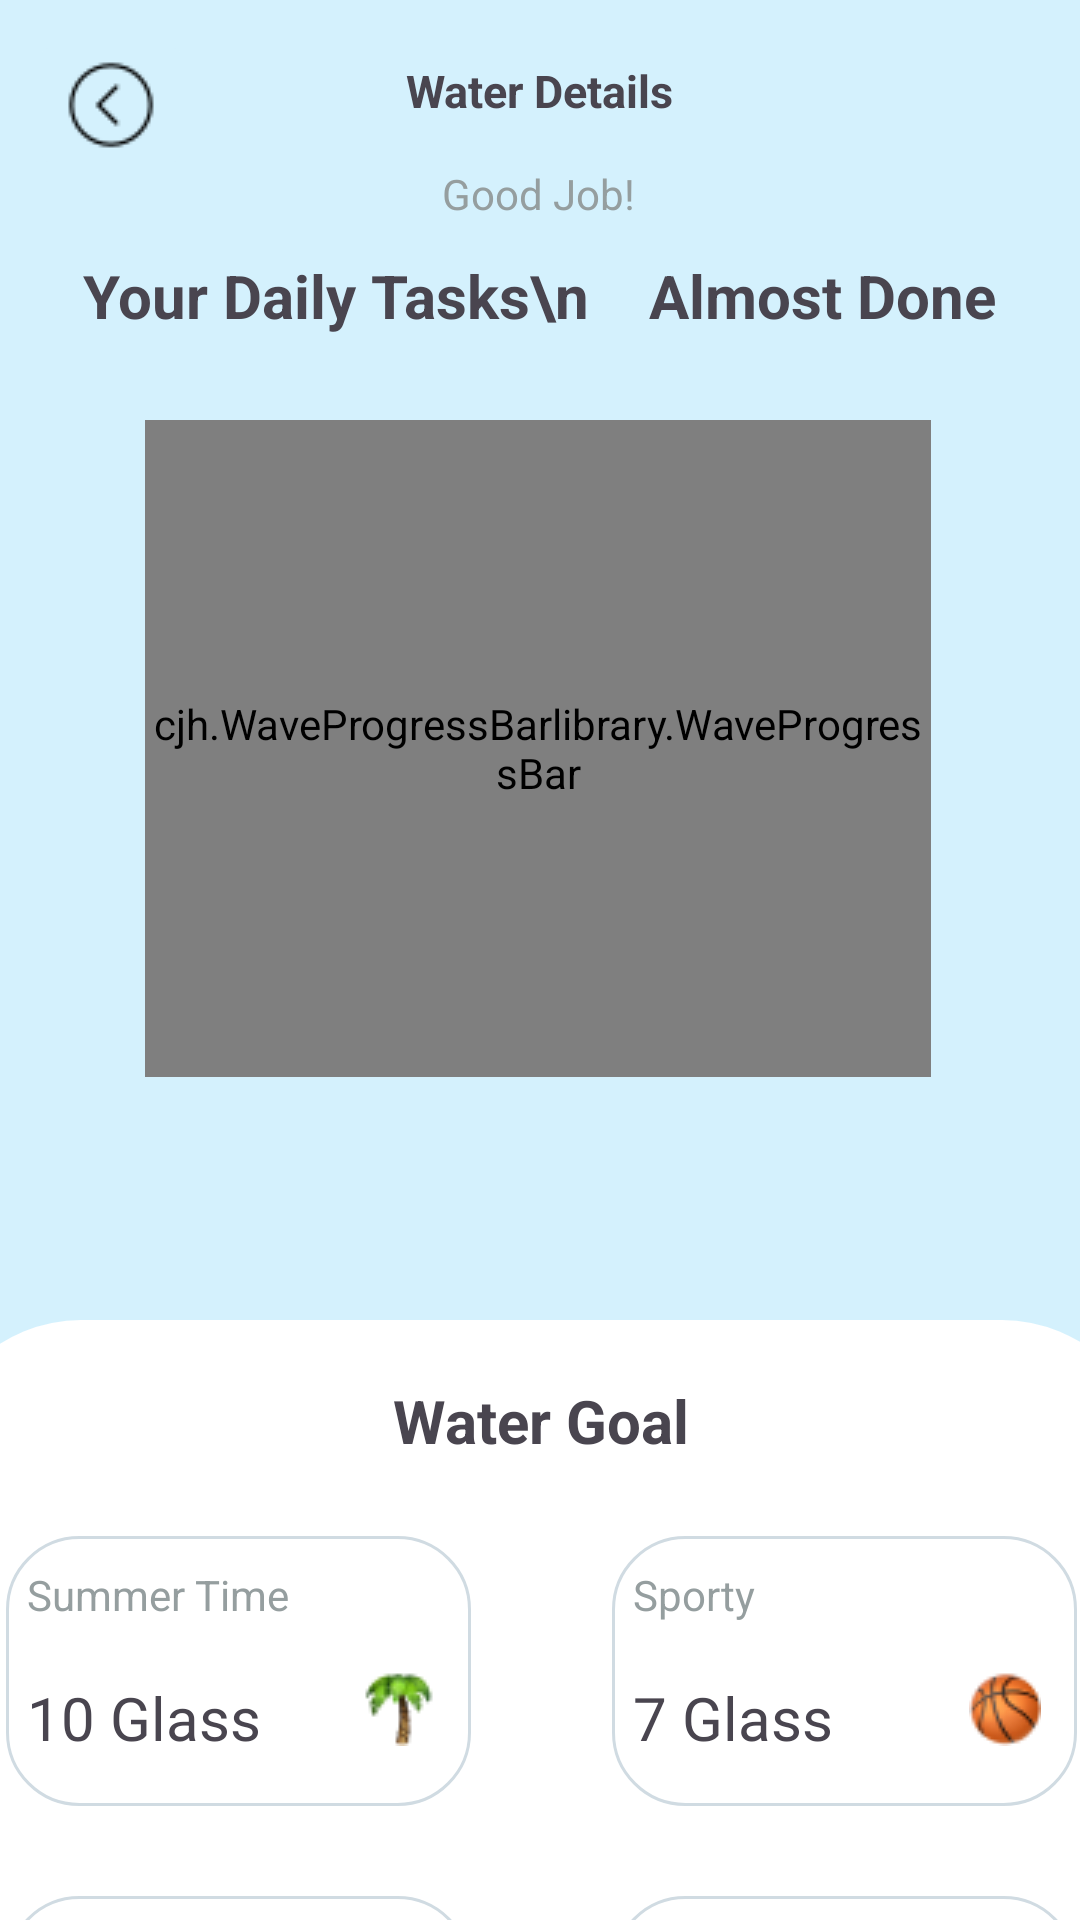

Icons on this 1080×1920 Android screen, each with its box as (x1, y1, x2, y2):
Go back: (68, 62, 154, 148)
